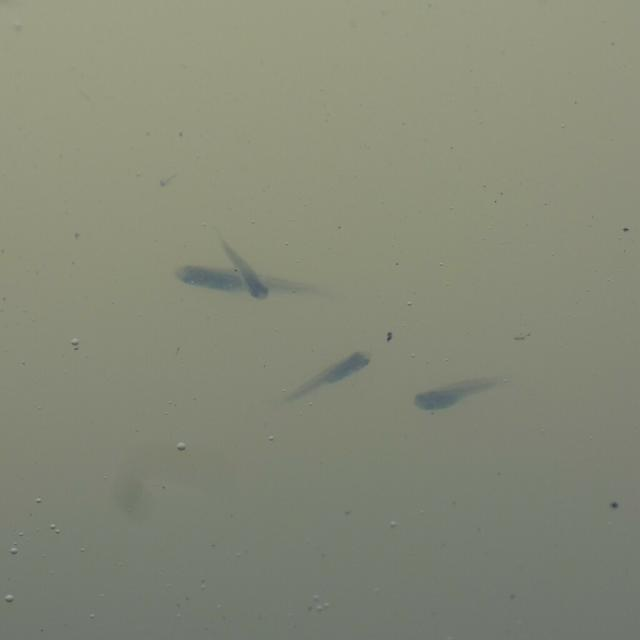Sivrisinek Baligi: (174, 254, 328, 304), (282, 348, 368, 412), (413, 369, 511, 417), (219, 232, 266, 300)
